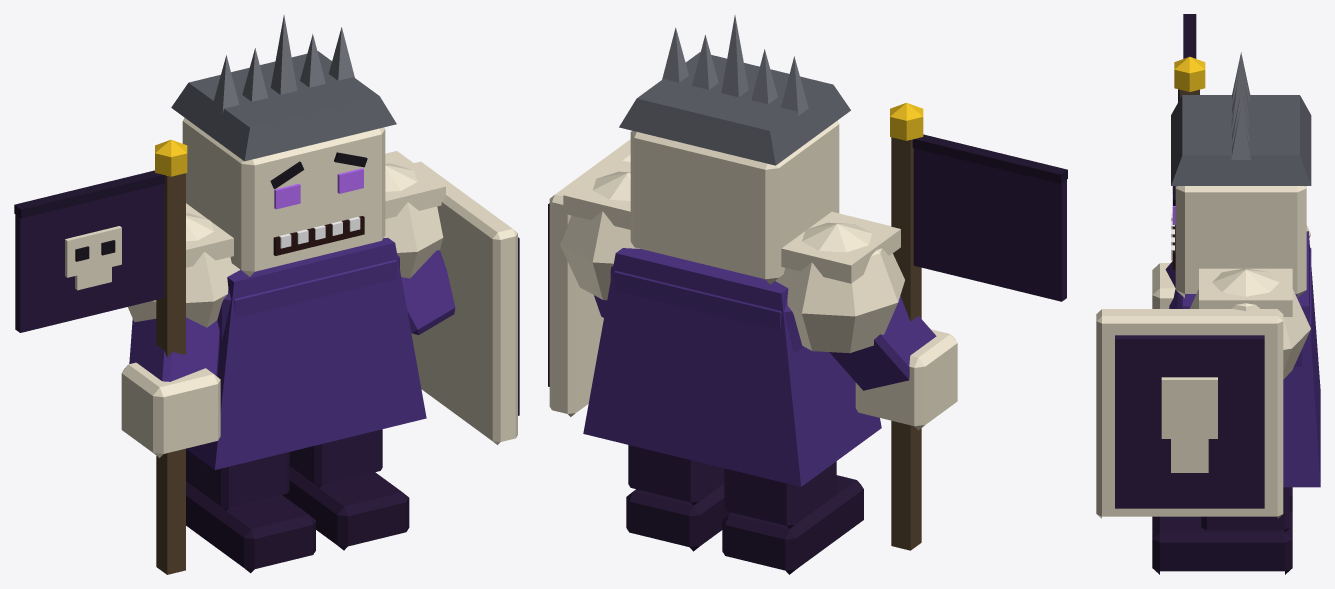
File: r4_mini_lich_commander.glb
3 views of the same model, side by side, from view 1: azimuth 30°, elevation 25°; view 2: azimuth 150°, elevation 25°; view 3: azimuth 270°, elevation 25° (orthographic). The views are drawn at different scales.
Parts seen in each view (by area): view 1: r4_mini_lich_commander_mesh; view 2: r4_mini_lich_commander_mesh; view 3: r4_mini_lich_commander_mesh.
Part boxes in pixels (x1,y1,x2,y2): r4_mini_lich_commander_mesh: [14, 14, 519, 574]; r4_mini_lich_commander_mesh: [548, 15, 1067, 574]; r4_mini_lich_commander_mesh: [1096, 14, 1320, 574].
Bounding box in the file's own units: 4.42 × 4.6 × 1.92.
1 material, 1 textured.
